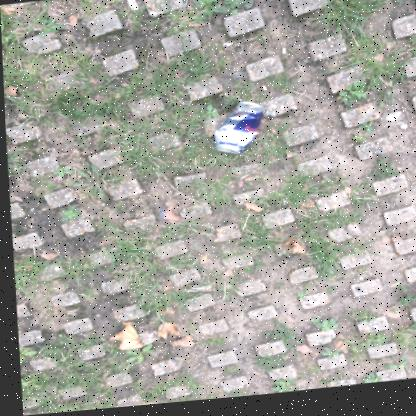Metal: (211, 105, 261, 157)
Waste: (280, 51, 284, 58)
